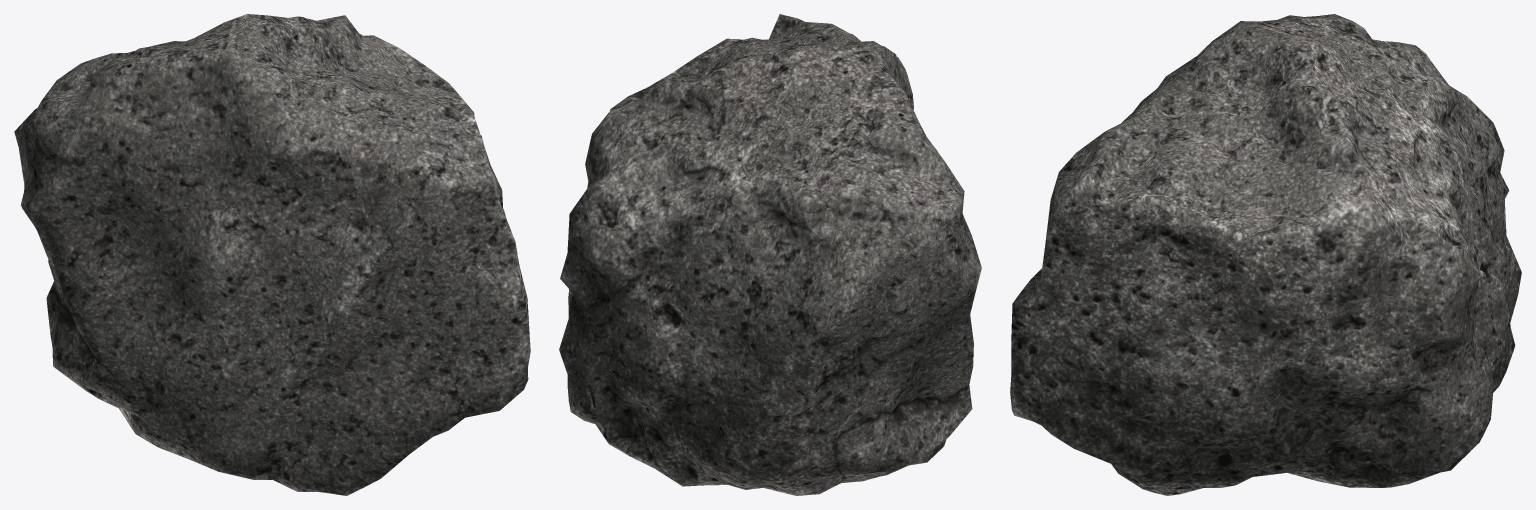
The model's file is moon-rock-a11-10017.glb.
The picture shows the model from 3 angles, left to right: view 1: azimuth 30°, elevation 25°; view 2: azimuth 150°, elevation 25°; view 3: azimuth 270°, elevation 25°; orthographic projection.
Parts seen in each view (by area): view 1: moon-rock-a11-10017_LOD0; view 2: moon-rock-a11-10017_LOD0; view 3: moon-rock-a11-10017_LOD0.
Boxes of the visible parts, x1,y1,x2,y2 form: moon-rock-a11-10017_LOD0: (14,14,530,495); moon-rock-a11-10017_LOD0: (559,14,981,495); moon-rock-a11-10017_LOD0: (1010,14,1521,495).
Size of what is drawn, in the model's own units: 2.74 by 2.73 by 3.
Materials: 1 (1 with a texture image).
